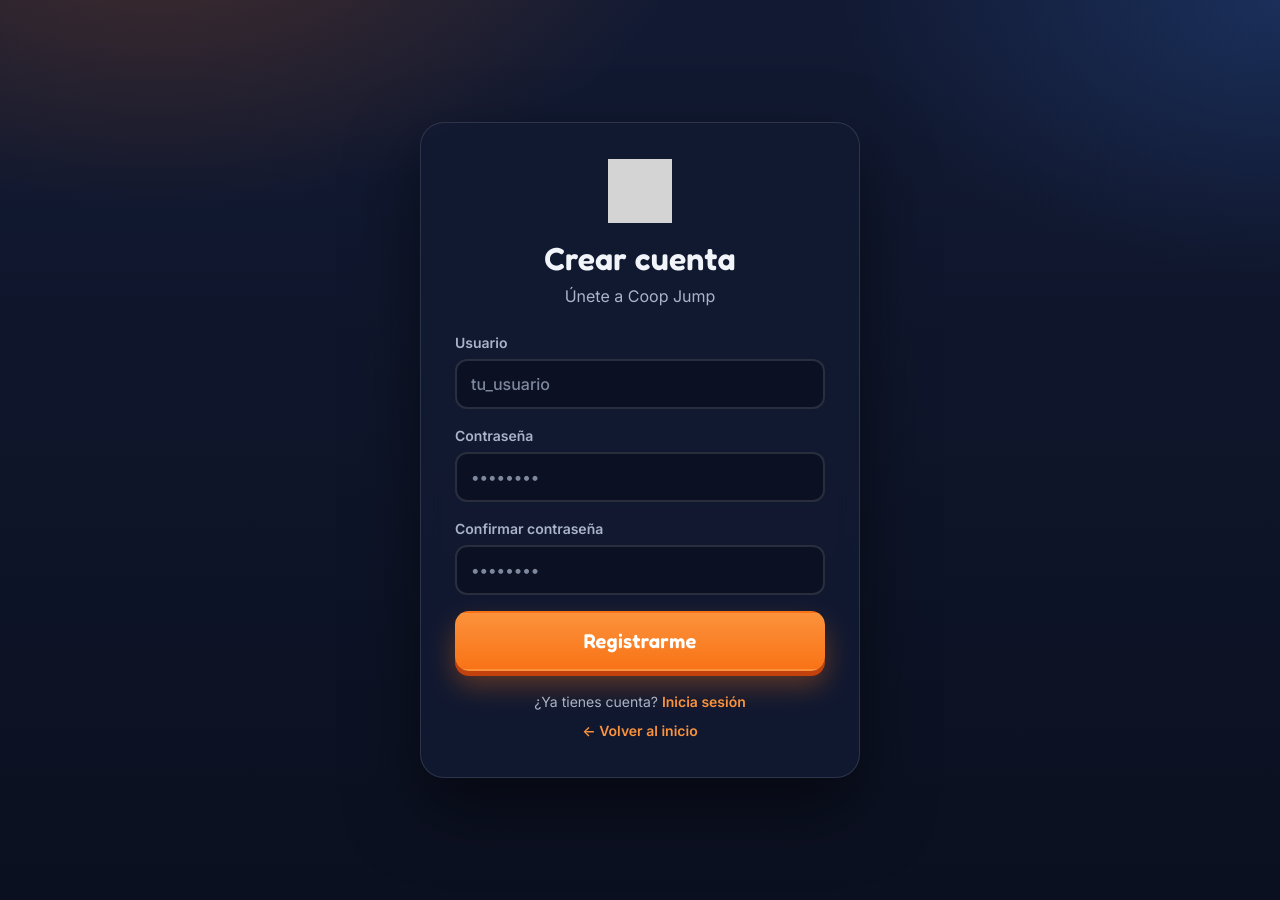
Test: Register › registra al usuario y avisa que redirige al login
This screenshot has width=1280, height=900.
Type " ana " into the field labelled "Usuario" at (640, 384), box [455,359,825,409]
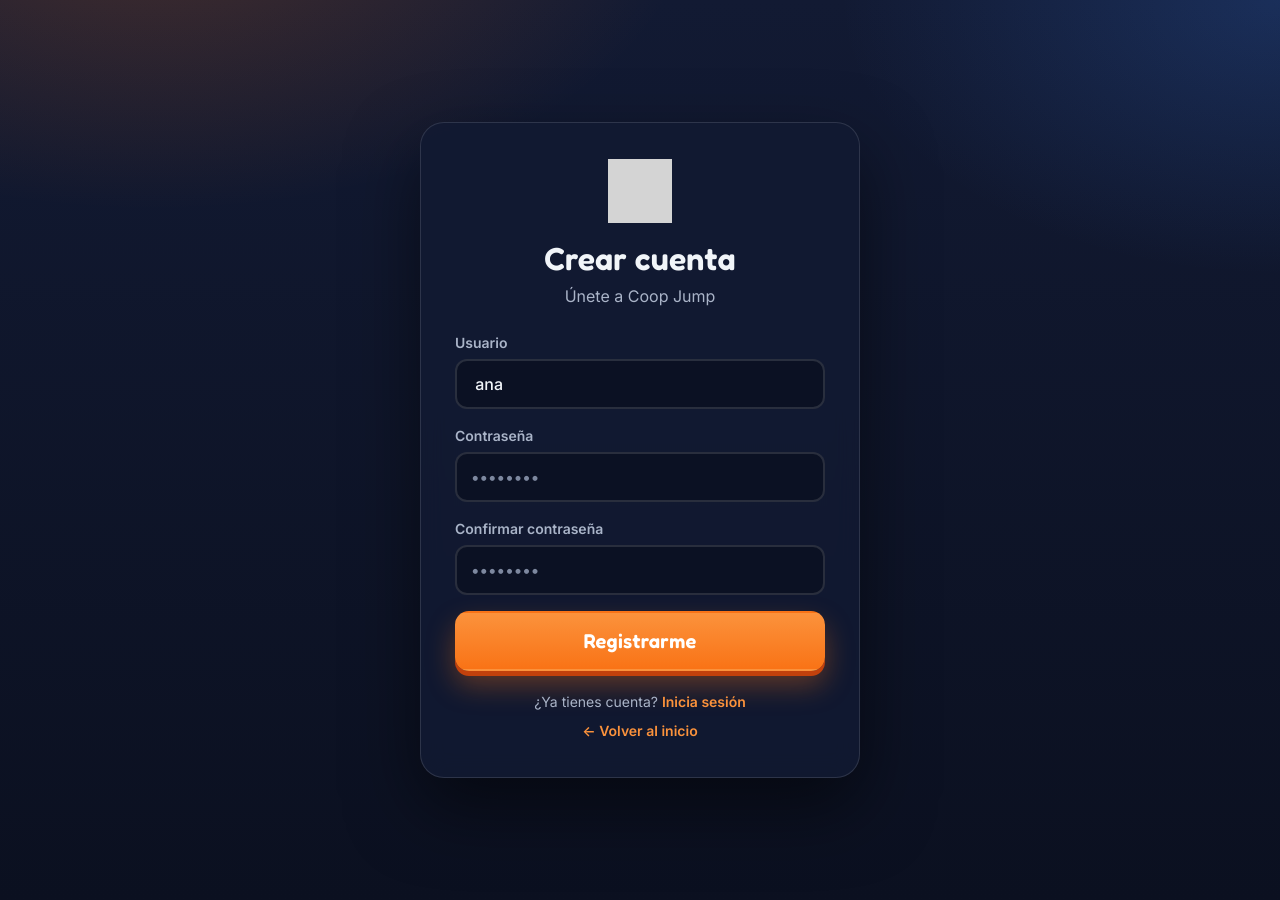
Type "secreto" into the password field labelled "Contraseña" at (640, 477), box [455,452,825,502]
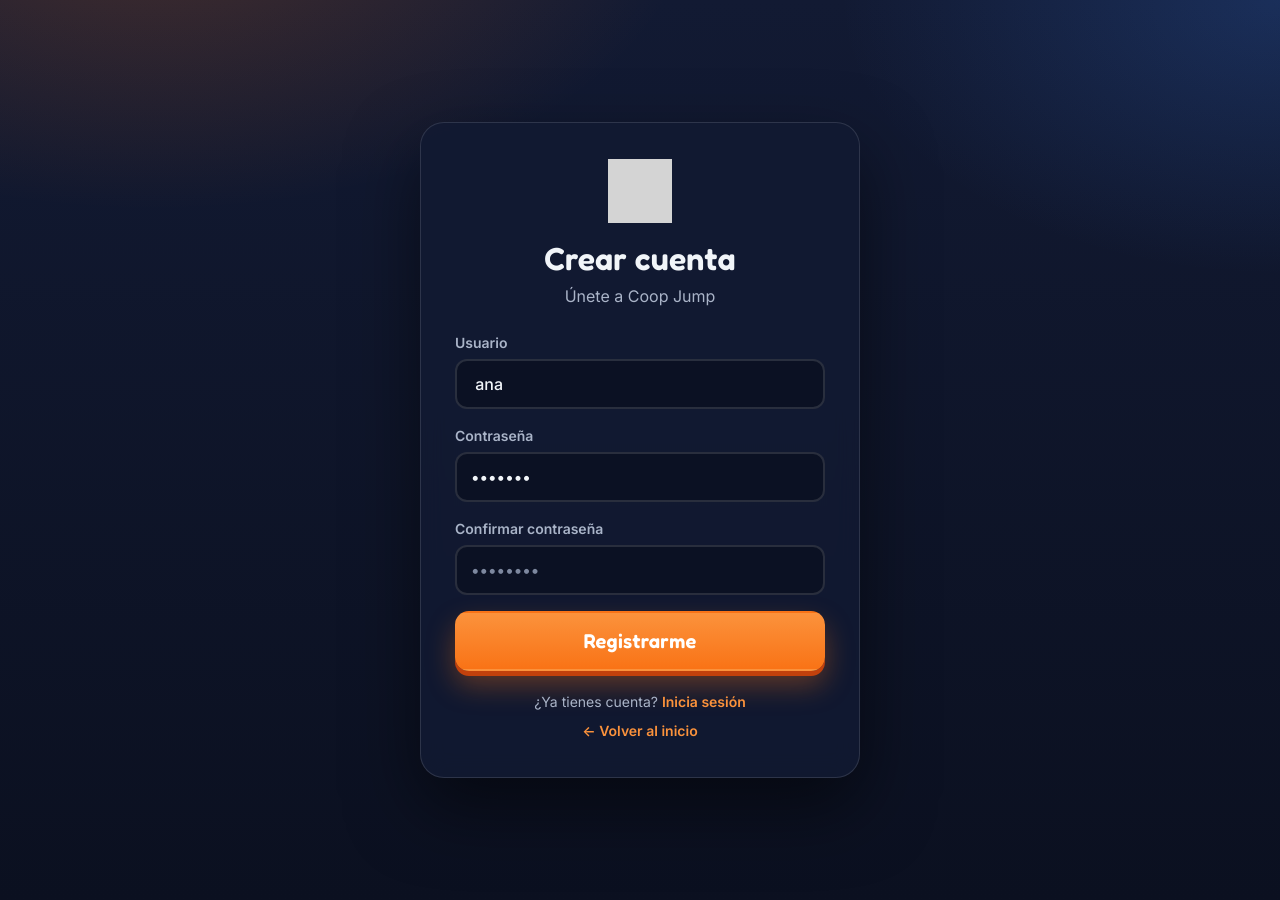
Type "secreto" into the password field labelled "Confirmar contraseña" at (640, 570), box [455,545,825,595]
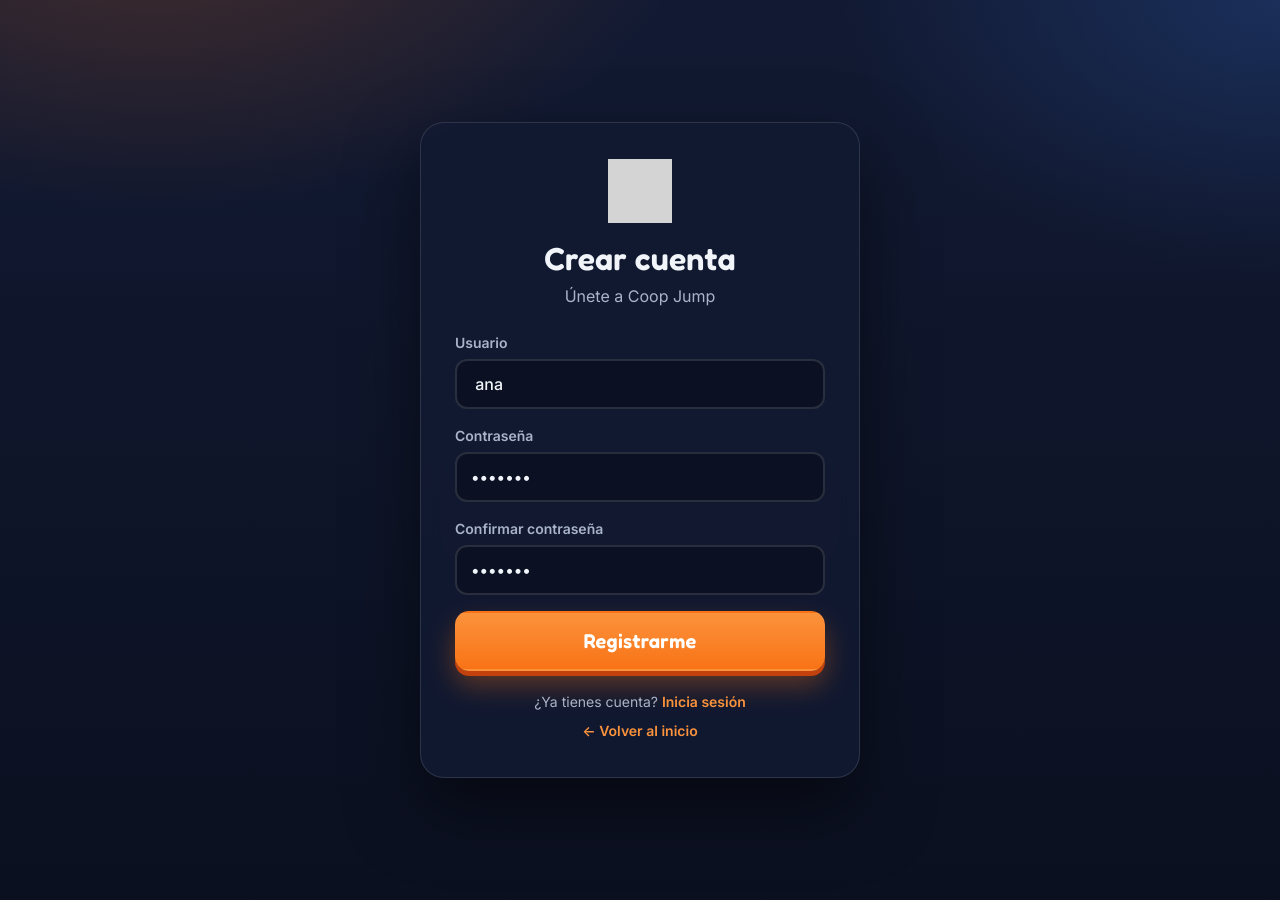
Click the button "Registrarme" at (640, 641), box [455,611,825,671]
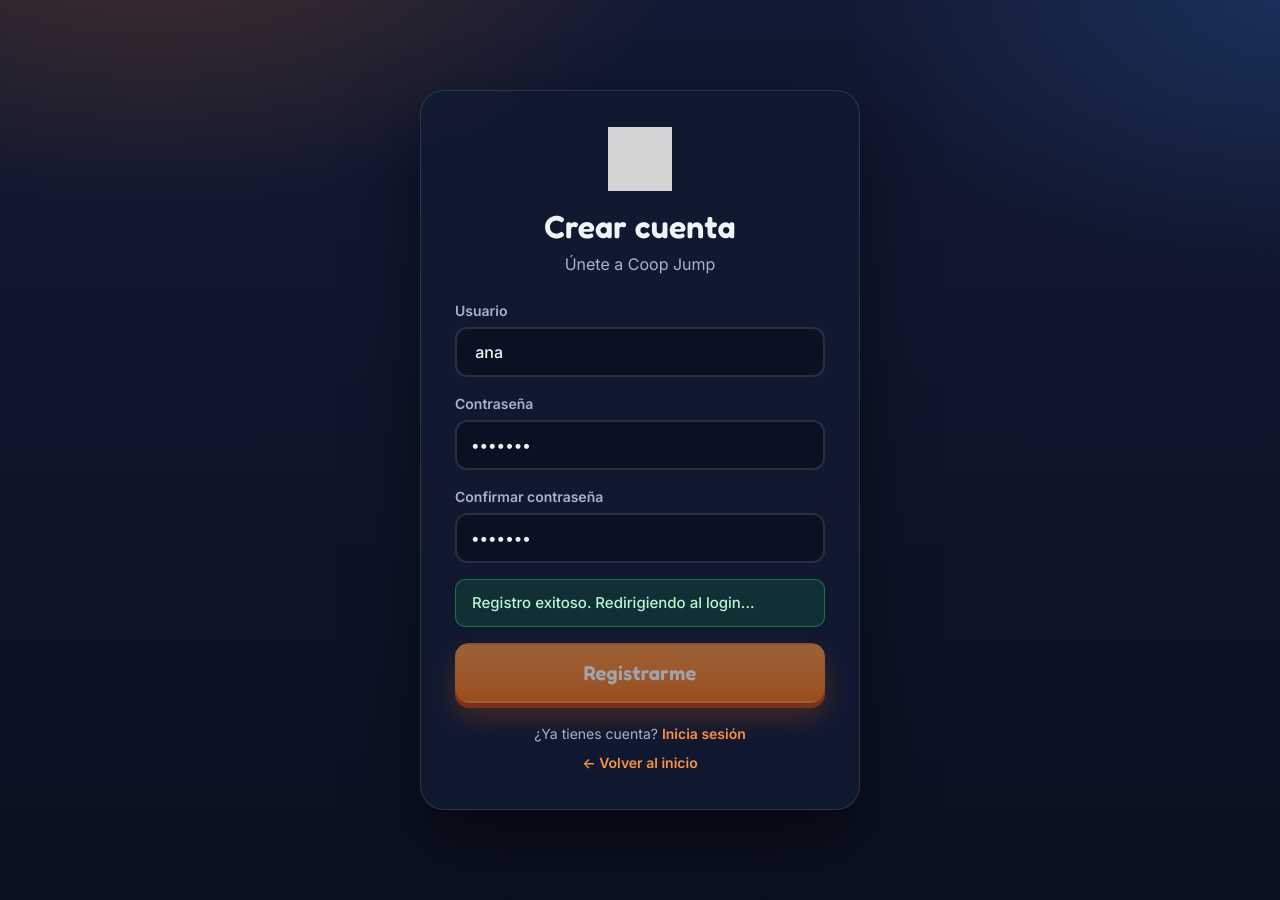
Expected: the message shows "Registro exitoso", [472,593,754,612]
